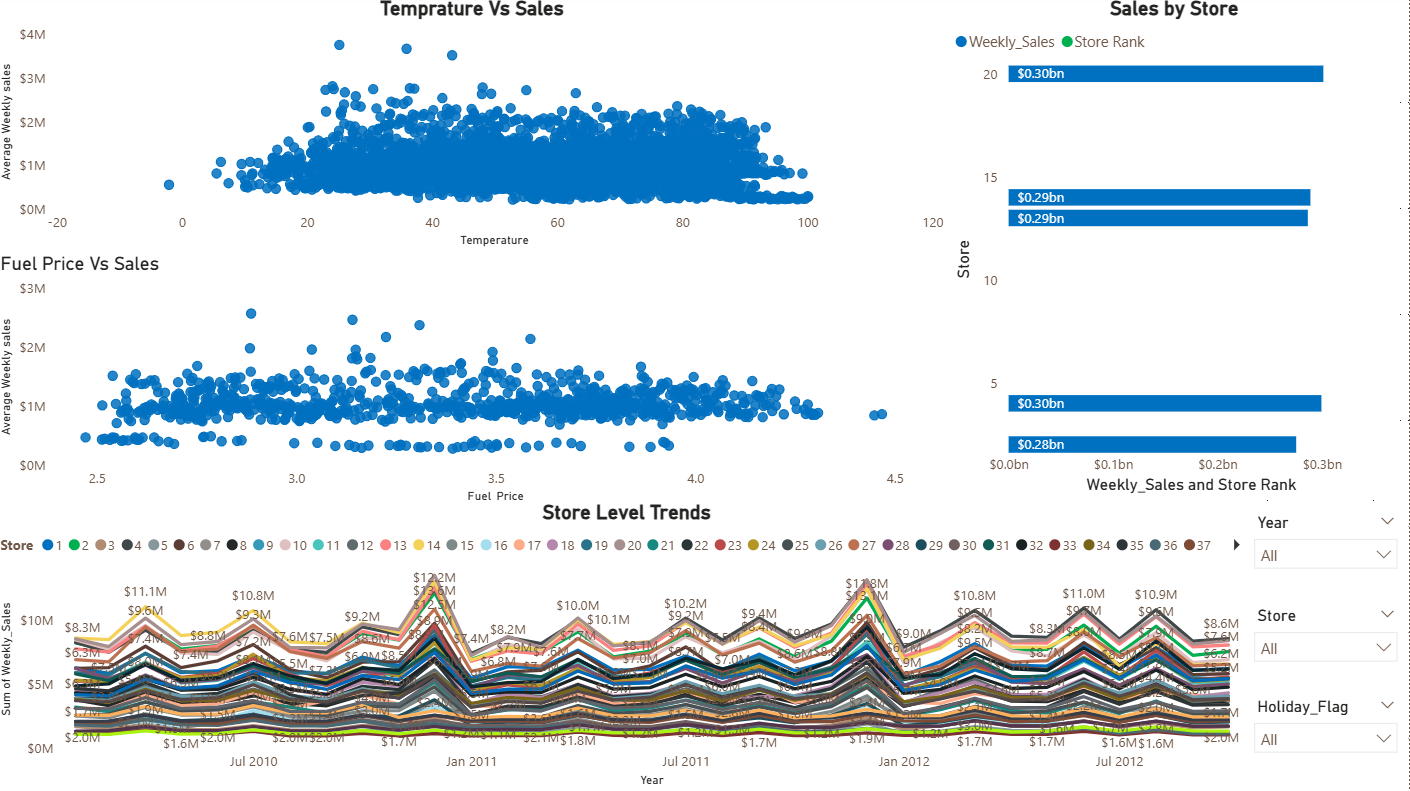

What the dashboard file says about the page in this screenshot:
{"tool":"powerbi","page":{"name":"Page 2","canvas":[1280,720],"ordinal":1},"visuals":[{"type":"scatterChart","title":"Temprature Vs Sales","fields":{"X":["Walmart_staging.Temperature"],"Y":["Walmart_staging.Average Weekly sales"]},"box":[0,0,864,232],"z":0},{"type":"scatterChart","title":"Fuel Price Vs Sales","fields":{"X":["Walmart_staging.Fuel_Price"],"Y":["Walmart_staging.Average Weekly sales"]},"box":[0,232,864,232],"z":1000},{"type":"barChart","title":"Sales by Store","fields":{"Category":["Walmart_staging.Store"],"Y":["Sum(Walmart_staging.Weekly_Sales)","Walmart_staging.Store Rank"]},"box":[864,0,408,456],"z":2000},{"type":"lineChart","title":"Store Level Trends","fields":{"Series":["Walmart_staging.Store"],"Y":["Sum(Walmart_staging.Weekly_Sales)"],"Category":["Walmart_staging.Date.Variation.Date Hierarchy.Year","Walmart_staging.Date.Variation.Date Hierarchy.Quarter","Walmart_staging.Date.Variation.Date Hierarchy.Month"]},"box":[0,456,1144,264],"z":3000},{"type":"slicer","fields":{"Values":["Walmart_staging.Year"]},"box":[1130,464,150,90],"z":4000},{"type":"slicer","fields":{"Values":["Walmart_staging.Store"]},"box":[1130,548,150,90],"z":5000},{"type":"slicer","fields":{"Values":["Walmart_staging.Holiday_Flag"]},"box":[1130,630,150,90],"z":6000}]}

Visuals, with their boxes in screenshot pixels (x1, y1, x2, y2), scaled from the page's 1280x720 canvas onto the 1410x791 screenshot:
"Temprature Vs Sales" scatterChart: {"left": 0, "top": 0, "right": 952, "bottom": 255}
"Fuel Price Vs Sales" scatterChart: {"left": 0, "top": 255, "right": 952, "bottom": 510}
"Sales by Store" barChart: {"left": 952, "top": 0, "right": 1401, "bottom": 501}
"Store Level Trends" lineChart: {"left": 0, "top": 501, "right": 1260, "bottom": 790}
slicer - Walmart_staging.Year: {"left": 1245, "top": 510, "right": 1409, "bottom": 609}
slicer - Walmart_staging.Store: {"left": 1245, "top": 602, "right": 1409, "bottom": 701}
slicer - Walmart_staging.Holiday_Flag: {"left": 1245, "top": 692, "right": 1409, "bottom": 790}
